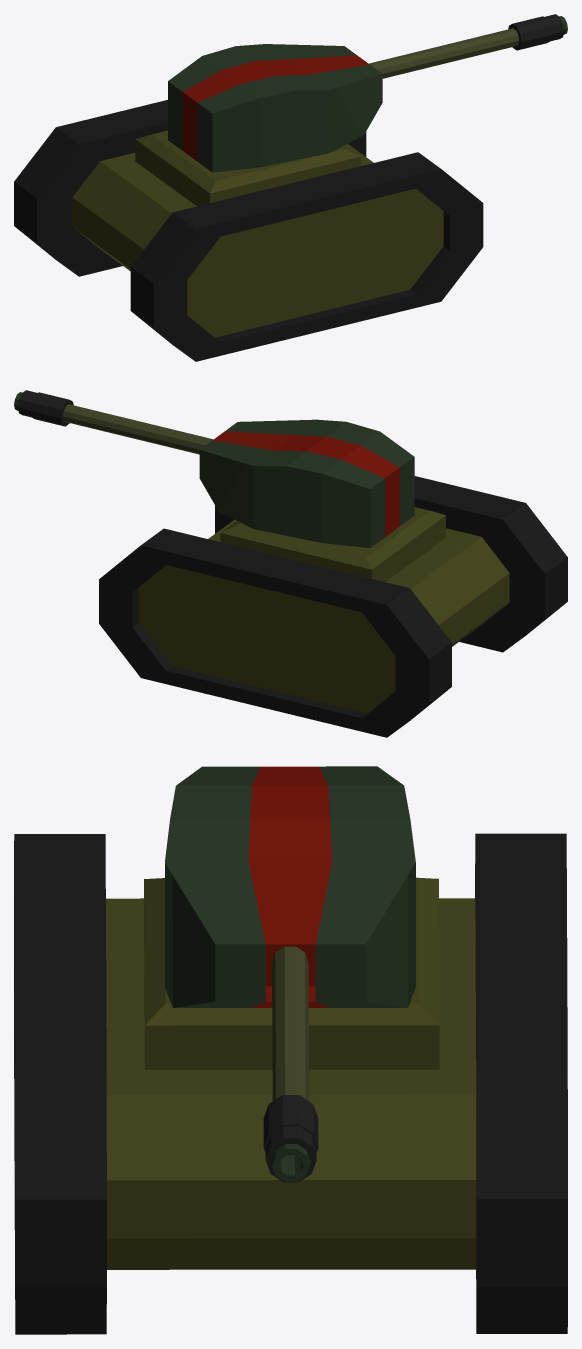
Rendered from PanzerFixedRotation.fbx.
3 renders of one model, top to bottom at view 1: azimuth 30°, elevation 25°; view 2: azimuth 150°, elevation 25°; view 3: azimuth 270°, elevation 25°, orthographic. The views are drawn at different scales.
Visible parts, largest first — view 1: Panzer, Turret; view 2: Panzer, Turret; view 3: Panzer, Turret.
Part boxes in pixels (x1=…): Panzer: x1=14, y1=100, x2=483, y2=361; Turret: x1=168, y1=14, x2=567, y2=172; Panzer: x1=99, y1=476, x2=567, y2=737; Turret: x1=14, y1=390, x2=414, y2=548; Panzer: x1=14, y1=833, x2=567, y2=1334; Turret: x1=165, y1=766, x2=415, y2=1182.
Bounding box in the file's own units: 360 × 149 × 182.
